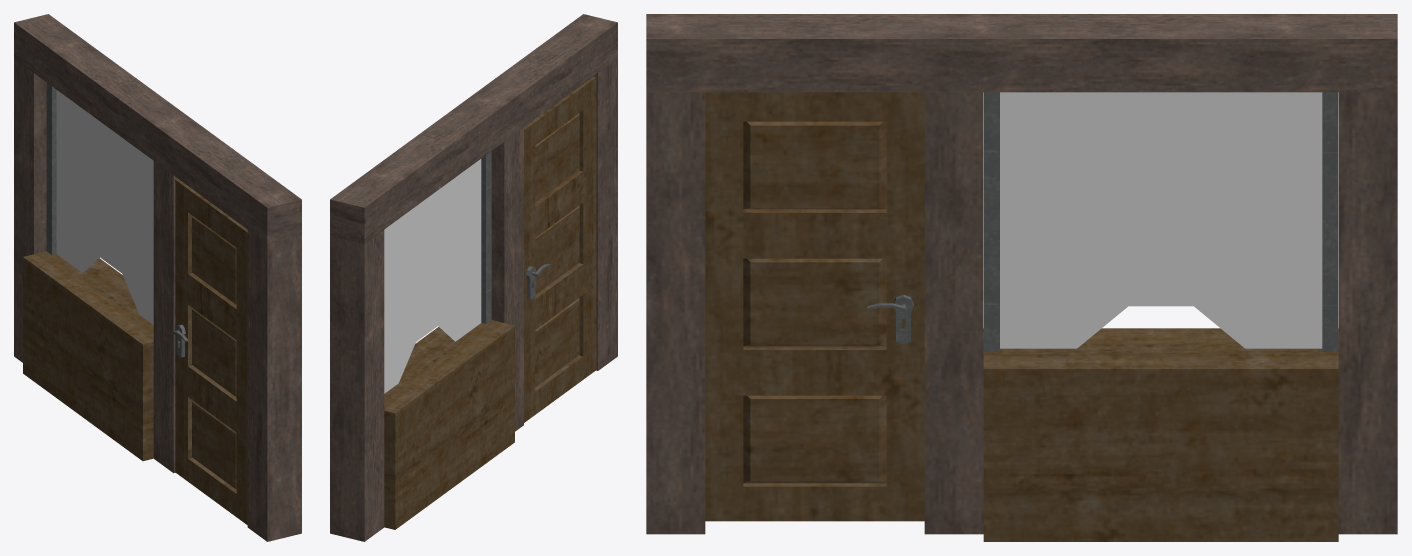
The model's file is TL_Sklepik 2.0.fbx.
The picture shows the model from 3 angles, left to right: view 1: azimuth 30°, elevation 25°; view 2: azimuth 150°, elevation 25°; view 3: azimuth 270°, elevation 25°; orthographic projection. The views are drawn at different scales.
Visible parts, largest first — view 1: Filary, Drzwi, Blat, Filary.001, Szyba, ObramówkaSzyby; view 2: Filary, Drzwi, Blat, Filary.001, Szyba, ObramówkaSzyby, Klamka; view 3: Drzwi, Filary, Szyba, Blat, Filary.001, ObramówkaSzyby, Klamka.
Boxes of the visible parts, <box> form: Filary: <box>14,59,301,541</box>; Drzwi: <box>175,179,247,524</box>; Blat: <box>23,251,153,461</box>; Filary.001: <box>14,14,301,243</box>; Szyba: <box>56,90,153,324</box>; ObramówkaSzyby: <box>46,83,56,254</box>; Filary: <box>330,59,617,541</box>; Drzwi: <box>524,77,596,422</box>; Blat: <box>384,320,514,529</box>; Filary.001: <box>330,14,617,243</box>; Szyba: <box>384,159,481,393</box>; ObramówkaSzyby: <box>481,151,491,323</box>; Klamka: <box>526,263,550,298</box>; Drzwi: <box>705,92,924,521</box>; Filary: <box>646,92,1397,534</box>; Szyba: <box>1000,92,1322,348</box>; Blat: <box>983,328,1338,541</box>; Filary.001: <box>646,14,1397,92</box>; ObramówkaSzyby: <box>984,92,1338,351</box>; Klamka: <box>867,294,913,344</box>.
Size of the model in its own units: 101 by 572 by 787.
